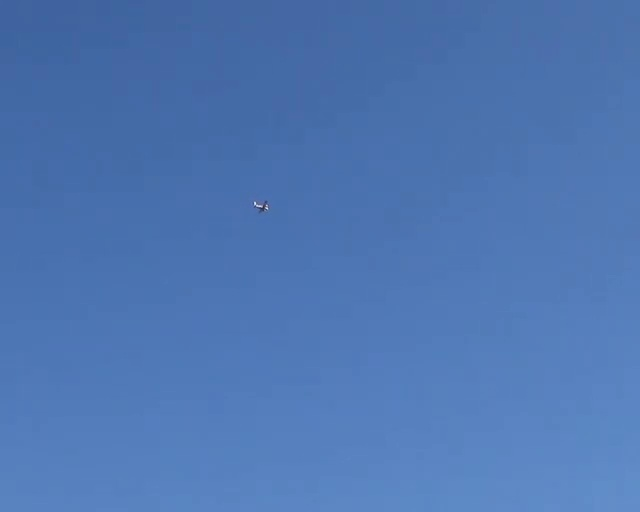AIRPLANE: (252, 199, 268, 212)
